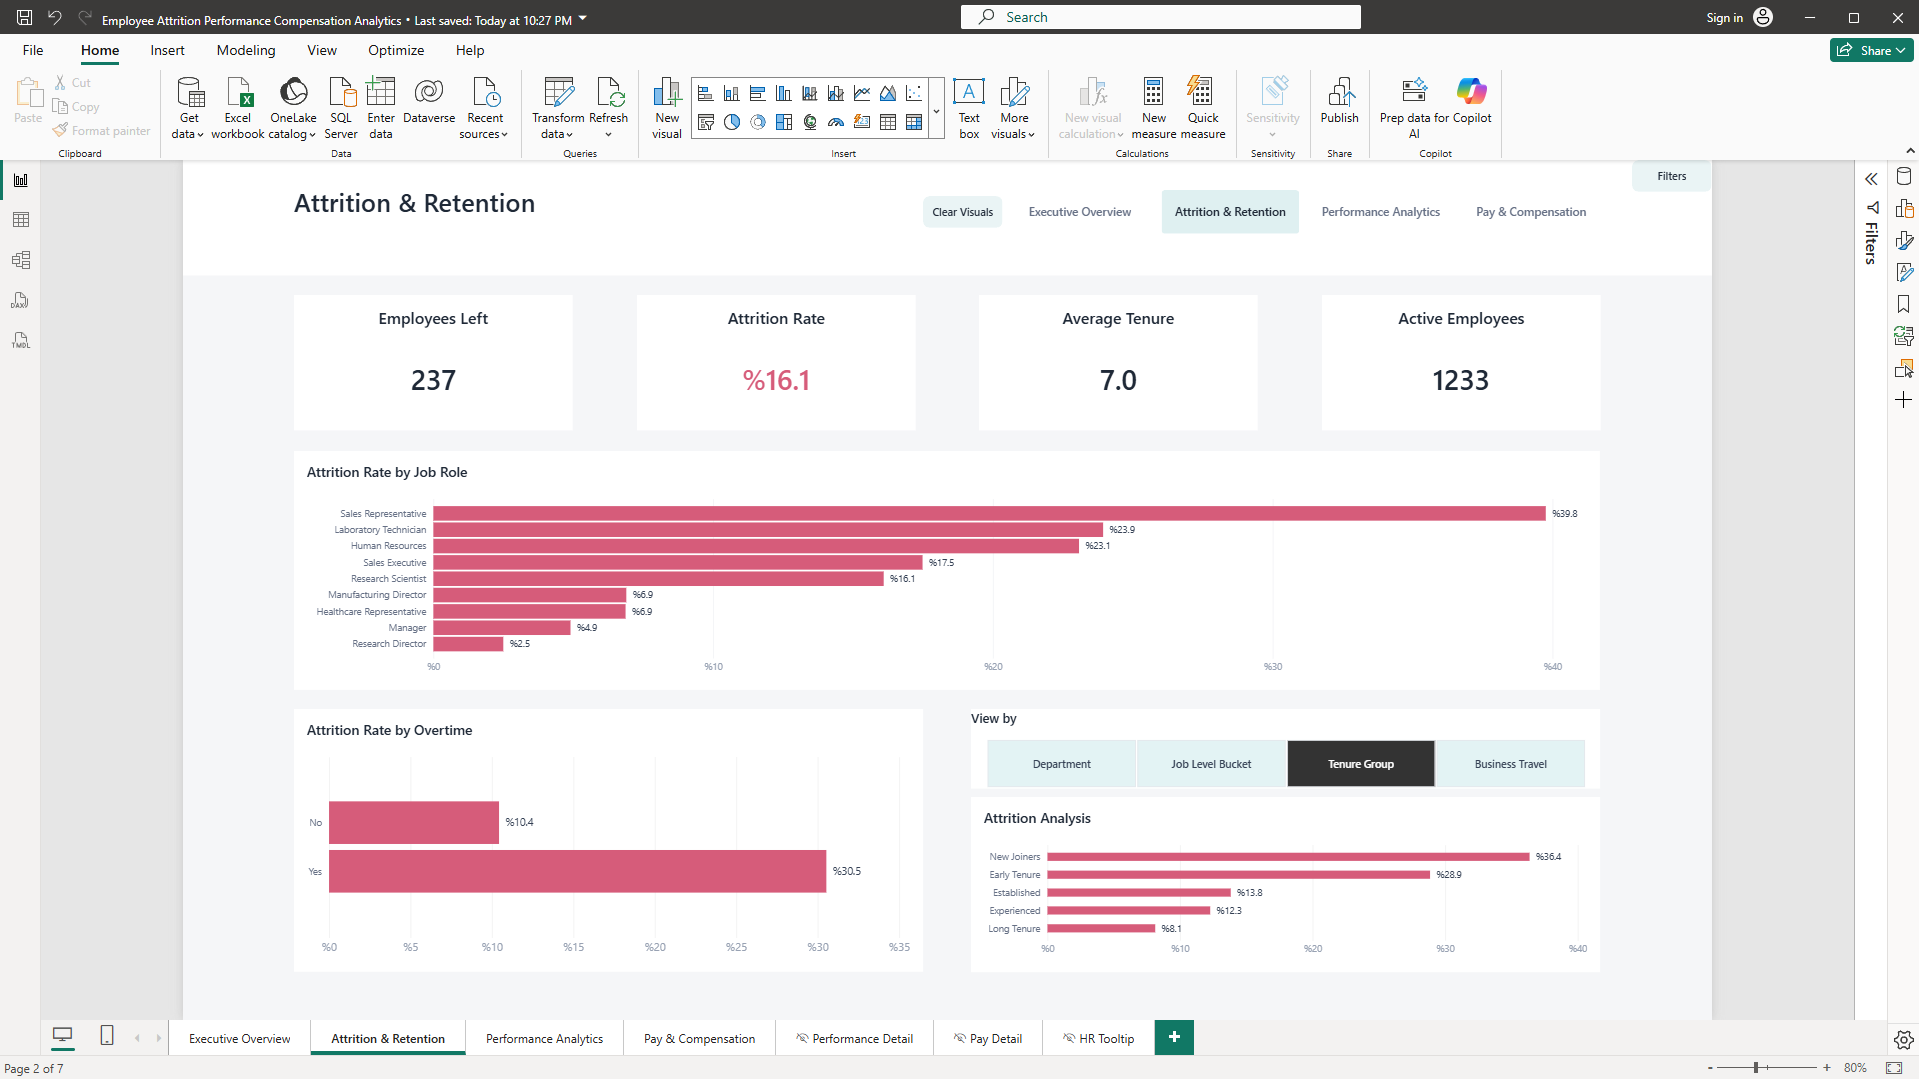

The dashboard page shown, as its layout file describes it:
{"tool":"powerbi","page":{"name":"Attrition & Retention","canvas":[1920,1080],"ordinal":1},"visuals":[{"type":"shape","box":[0,0,1920,145],"z":0},{"type":"card","title":"Employees Left","fields":{"Values":["Measure Table.Employees Left"]},"box":[140,170,350,170],"z":1000},{"type":"card","title":"Attrition Rate","fields":{"Values":["Measure Table.Attrition Rate"]},"box":[570,170,350,170],"z":2000},{"type":"card","title":"Average Tenure","fields":{"Values":["Measure Table.Average Tenure"]},"box":[1000,170,350,170],"z":3000},{"type":"card","title":"Active Employees","fields":{"Values":["Measure Table.Active Employees"]},"box":[1430,170,350,170],"z":4000},{"type":"clusteredBarChart","title":"Attrition Rate by Job Role","fields":{"Category":["Employee Data.Job Role"],"Y":["Measure Table.Attrition Rate"]},"box":[140,365,1640,300],"z":5000},{"type":"clusteredBarChart","title":"Attrition Rate by Overtime","fields":{"Category":["Employee Data.Over Time"],"Y":["Measure Table.Attrition Rate"]},"box":[140,690,790,330],"z":6000},{"type":"clusteredBarChart","title":"Attrition Analysis","fields":{"Category":["Employee Data.Tenure Group"],"Y":["Measure Table.Attrition Rate"]},"box":[990,800,790,220],"z":7000},{"type":"textbox","box":[140,30,850,45],"z":8000},{"type":"pageNavigator","box":[1040,38,740,55],"z":9000},{"type":"slicer","title":"View by","fields":{"Values":["Attrition Analysis.Attrition Analysis"]},"box":[990,690,790,100],"z":10000},{"type":"actionButton","box":[1820,0,100,40],"z":14001},{"type":"actionButton","box":[929,45,100,40],"z":14009}]}

Visuals, with their boxes on the page's 1920x1080 design canvas (x1, y1, x2, y2). These are canvas units, not pixel positions in the 1919x1079 screenshot, which may show the page scaled, cropped or inside an application window:
shape: rect(0, 0, 1920, 145)
"Employees Left" card: rect(140, 170, 490, 340)
"Attrition Rate" card: rect(570, 170, 920, 340)
"Average Tenure" card: rect(1000, 170, 1350, 340)
"Active Employees" card: rect(1430, 170, 1780, 340)
"Attrition Rate by Job Role" clusteredBarChart: rect(140, 365, 1780, 665)
"Attrition Rate by Overtime" clusteredBarChart: rect(140, 690, 930, 1020)
"Attrition Analysis" clusteredBarChart: rect(990, 800, 1780, 1020)
textbox: rect(140, 30, 990, 75)
pageNavigator: rect(1040, 38, 1780, 93)
"View by" slicer: rect(990, 690, 1780, 790)
actionButton: rect(1820, 0, 1920, 40)
actionButton: rect(929, 45, 1029, 85)
